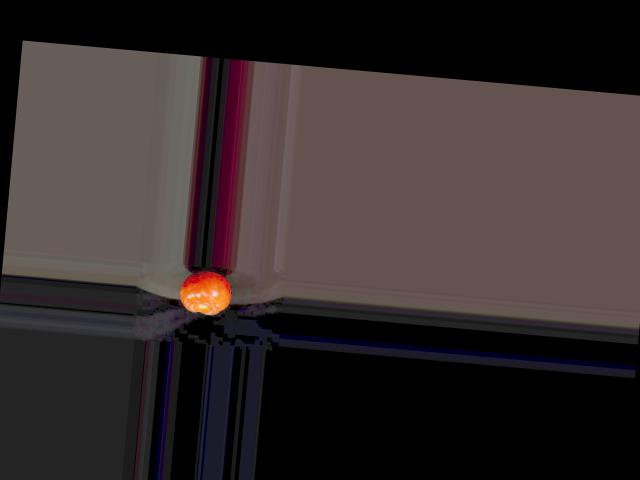tomato: (178, 269, 234, 316)
